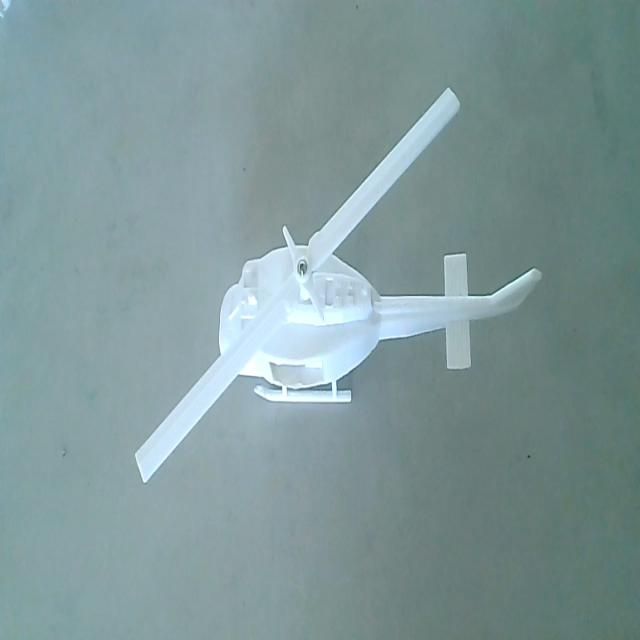Helicopter: (133, 74, 543, 505)
